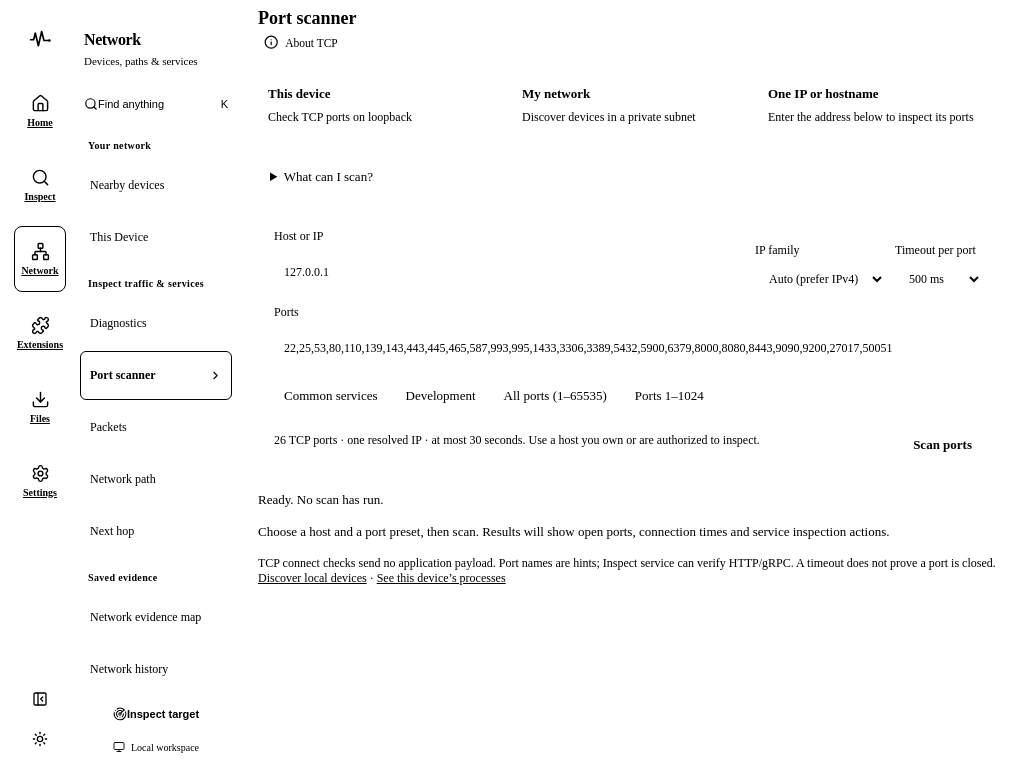
Test: selects all TCP ports without starting a scan
The width and height of the screenshot is (1024, 766).
Step 1. Click the button "All ports (1–65535)" → (555, 396), box [494,381,617,411]
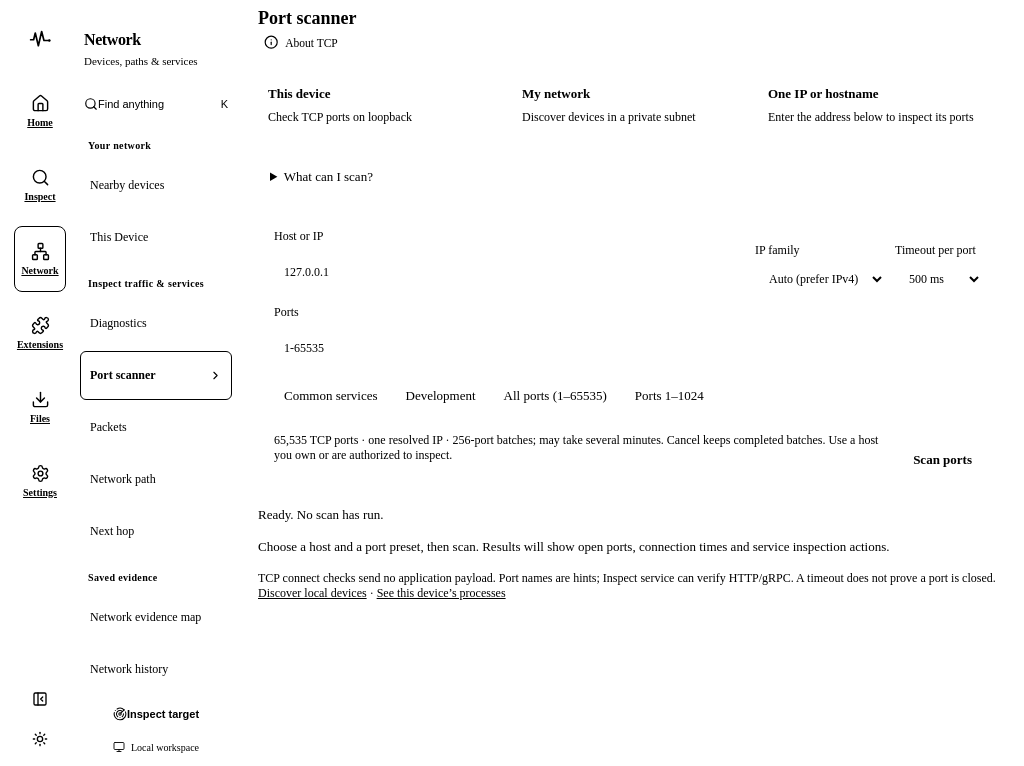
Check: the button "Scan ports" is enabled, box [903,445,982,475]
Check: the field labelled "Ports" holds "1-65535", box [274,325,982,371]
